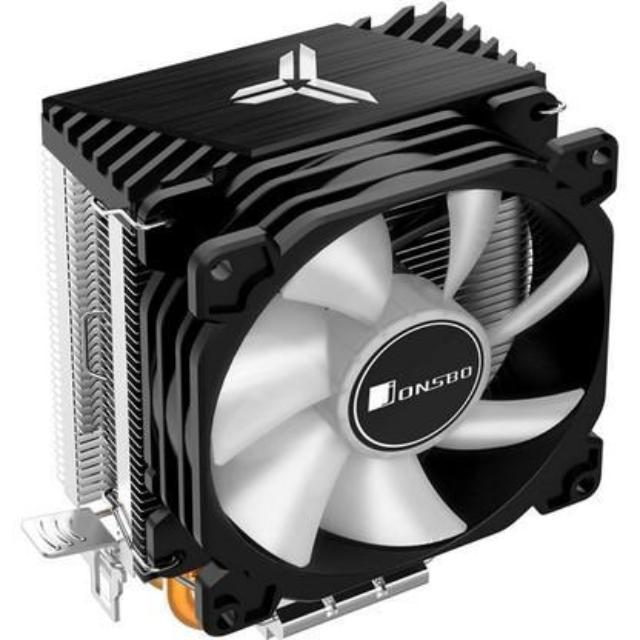CPU_Fan: (39, 5, 610, 640)
